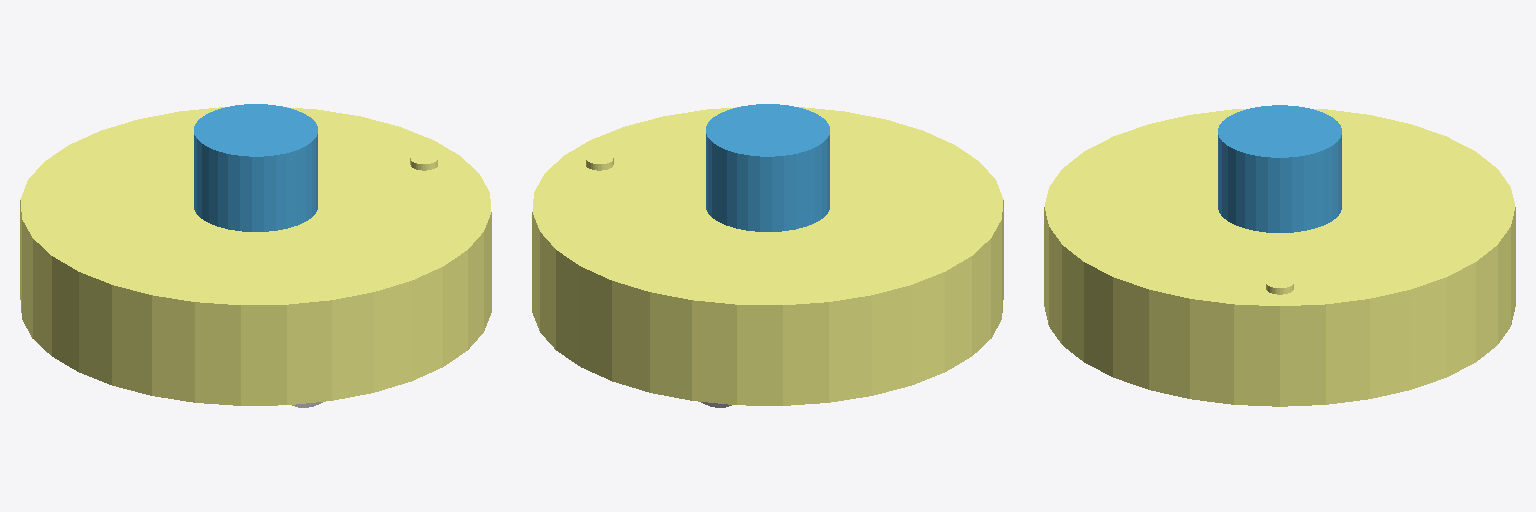
URDF robot description (iRobot):
<?xml version="1.0" ?>
<!-- =================================================================================== -->
<!-- |    This document was autogenerated by xacro from iRobot.urdf.xacro              | -->
<!-- |    EDITING THIS FILE BY HAND IS NOT RECOMMENDED                                 | -->
<!-- =================================================================================== -->
<robot name="iRobot" xmlns:xacro="http://www.ros.org/wiki/xacro">
  <!-- MODELS -->
  <material name="iRobot/Green">
    <color rgba="0.0 0.6 0.0 1.0"/>
  </material>
  <material name="iRobot/Yellow">
    <color rgba="1.0 1.0 0.0 1.0"/>
  </material>
  <material name="iRobot/Blue">
    <color rgba="0.0 0.5 1.0 1.0"/>
  </material>
  <material name="iRobot/LightYellow">
    <color rgba="1.0 1.0 0.6 1.0"/>
  </material>
  <material name="iRobot/Grey">
    <color rgba="0.75 0.75 0.75 1.0"/>
  </material>
  <material name="iRobot/Black">
    <color rgba="0.0 0.0 0.0 1.0"/>
  </material>
  <material name="iRobot/Red">
    <color rgba="0.8 0.0 0.0 1.0"/>
  </material>
  <link name="base_link">
    <inertial>
      <origin rpy="0 0 0" xyz="0 0 0"/>
      <mass value="0"/>
      <inertia ixx="0.0" ixy="0.0" ixz="0.0" iyy="0.0" iyz="0.0" izz="0.0"/>
    </inertial>
  </link>
  <joint name="base_joint" type="fixed">
    <origin rpy="0 0 0" xyz="0 0 0"/>
    <parent link="base_link"/>
    <child link="chassis"/>
  </joint>
  <link name="chassis">
    <inertial>
      <origin rpy="0 0 0" xyz="0 0 0"/>
      <mass value="10"/>
      <inertia ixx="0.425" ixy="0.0" ixz="0.0" iyy="0.425" iyz="0.0" izz="0.85"/>
    </inertial>
    <visual>
      <origin rpy="0 0 0" xyz="0 0 0"/>
      <geometry>
        <cylinder length="0.08" radius="0.17"/>
      </geometry>
      <material name="iRobot/LightYellow"/>
    </visual>
    <collision>
      <origin rpy="0 0 0" xyz="0 0 0"/>
      <geometry>
        <cylinder length="0.08" radius="0.17"/>
      </geometry>
    </collision>
  </link>
  <joint name="left_axis_base_joint" type="fixed">
    <origin rpy="0 0 0" xyz="-0.04 0.14 -0.02"/>
    <parent link="chassis"/>
    <child link="left_axis"/>
  </joint>
  <link name="left_axis">
    <inertial>
      <origin rpy="-1.57079632679 0 0" xyz="0 0 0"/>
      <mass value="0.001"/>
      <inertia ixx="6.25e-07" ixy="0.0" ixz="0.0" iyy="6.25e-07" iyz="0.0" izz="2.08333333333e-07"/>
    </inertial>
    <visual>
      <origin rpy="-1.57079632679 0 0" xyz="0 0 0"/>
      <geometry>
        <cylinder length="0.02" radius="0.0025"/>
      </geometry>
      <material name="iRobot/Red"/>
    </visual>
    <collision>
      <origin rpy="-1.57079632679 0 0" xyz="0 0 0"/>
      <geometry>
        <cylinder length="0.02" radius="0.0025"/>
      </geometry>
    </collision>
  </link>
  <gazebo reference="left_axis_axis">
    <gravity>true</gravity>
    <material>Gazebo/Red</material>
    <mu1>0.8</mu1>
    <mu2>0.8</mu2>
  </gazebo>
  <joint name="left_wheel_rot_joint" type="continuous">
    <origin rpy="0 0 0" xyz="0 0 0"/>
    <axis xyz="0 1 0"/>
    <limit effort="100" velocity="100"/>
    <joint_properties damping="0.0" friction="0.0"/>
    <parent link="left_axis"/>
    <child link="left_wheel_link"/>
  </joint>
  <link name="left_wheel_link">
    <inertial>
      <origin rpy="-1.57079632679 0 0" xyz="0 0.01 0"/>
      <mass value="0.5"/>
      <inertia ixx="0.00375" ixy="0.0" ixz="0.0" iyy="0.00375" iyz="0.0" izz="0.00125"/>
    </inertial>
    <visual>
      <origin rpy="-1.57079632679 0 0" xyz="0 0 0"/>
      <geometry>
        <cylinder length="0.02" radius="0.03"/>
      </geometry>
      <material name="iRobot/Grey"/>
    </visual>
    <collision>
      <origin rpy="-1.57079632679 0 0" xyz="0 0 0"/>
      <geometry>
        <cylinder length="0.02" radius="0.03"/>
      </geometry>
    </collision>
  </link>
  <gazebo reference="left_wheel_link">
    <gravity>true</gravity>
    <material>Gazebo/Grey</material>
    <mu1>50</mu1>
    <mu2>10</mu2>
    <kp>10000000</kp>
    <kd>1</kd>
    <fdir1>1 0 0</fdir1>
    <minDepth>0.0001</minDepth>
    <maxContacts>1</maxContacts>
  </gazebo>
  <joint name="right_axis_base_joint" type="fixed">
    <origin rpy="0 0 0" xyz="-0.04 -0.14 -0.02"/>
    <parent link="chassis"/>
    <child link="right_axis"/>
  </joint>
  <link name="right_axis">
    <inertial>
      <origin rpy="-1.57079632679 0 0" xyz="0 0 0"/>
      <mass value="0.001"/>
      <inertia ixx="6.25e-07" ixy="0.0" ixz="0.0" iyy="6.25e-07" iyz="0.0" izz="2.08333333333e-07"/>
    </inertial>
    <visual>
      <origin rpy="-1.57079632679 0 0" xyz="0 0 0"/>
      <geometry>
        <cylinder length="0.02" radius="0.0025"/>
      </geometry>
      <material name="iRobot/Red"/>
    </visual>
    <collision>
      <origin rpy="-1.57079632679 0 0" xyz="0 0 0"/>
      <geometry>
        <cylinder length="0.02" radius="0.0025"/>
      </geometry>
    </collision>
  </link>
  <gazebo reference="right_axis_axis">
    <gravity>true</gravity>
    <material>Gazebo/Red</material>
    <mu1>0.8</mu1>
    <mu2>0.8</mu2>
  </gazebo>
  <joint name="right_wheel_rot_joint" type="continuous">
    <origin rpy="0 0 0" xyz="0 0 0"/>
    <axis xyz="0 1 0"/>
    <limit effort="100" velocity="100"/>
    <joint_properties damping="0.0" friction="0.0"/>
    <parent link="right_axis"/>
    <child link="right_wheel_link"/>
  </joint>
  <link name="right_wheel_link">
    <inertial>
      <origin rpy="-1.57079632679 0 0" xyz="0 0.01 0"/>
      <mass value="0.5"/>
      <inertia ixx="0.00375" ixy="0.0" ixz="0.0" iyy="0.00375" iyz="0.0" izz="0.00125"/>
    </inertial>
    <visual>
      <origin rpy="-1.57079632679 0 0" xyz="0 0 0"/>
      <geometry>
        <cylinder length="0.02" radius="0.03"/>
      </geometry>
      <material name="iRobot/Grey"/>
    </visual>
    <collision>
      <origin rpy="-1.57079632679 0 0" xyz="0 0 0"/>
      <geometry>
        <cylinder length="0.02" radius="0.03"/>
      </geometry>
    </collision>
  </link>
  <gazebo reference="right_wheel_link">
    <gravity>true</gravity>
    <material>Gazebo/Grey</material>
    <mu1>50</mu1>
    <mu2>10</mu2>
    <kp>10000000</kp>
    <kd>1</kd>
    <fdir1>1 0 0</fdir1>
    <minDepth>0.0001</minDepth>
    <maxContacts>1</maxContacts>
  </gazebo>
  <joint name="sphere_joint" type="revolute">
    <origin rpy="0 0 0" xyz="0.14 0 -0.04"/>
    <axis xyz="0 0 1"/>
    <limit effort="100" lower="0" upper="0" velocity="100"/>
    <parent link="chassis"/>
    <child link="sphere"/>
  </joint>
  <link name="sphere">
    <inertial>
      <origin rpy="0 0 0" xyz="0 0 0"/>
      <mass value="0.3"/>
      <inertia ixx="0.0012" ixy="0.0" ixz="0.0" iyy="0.0012" iyz="0.0" izz="0.0012"/>
    </inertial>
    <visual>
      <origin rpy="0 0 0" xyz="0 0 0"/>
      <geometry>
        <sphere radius="0.01"/>
      </geometry>
      <material name="iRobot/Grey"/>
    </visual>
    <collision>
      <origin rpy="0 0 0" xyz="0 0 0"/>
      <geometry>
        <sphere radius="0.01"/>
      </geometry>
    </collision>
  </link>
  <joint name="sphere_to_ground" type="fixed">
    <origin rpy="0 0 0" xyz="0 0 -0.03"/>
    <parent link="sphere"/>
    <child link="ground"/>
  </joint>
  <link name="ground">
    <inertial>
      <origin rpy="0 0 0" xyz="0 0 0"/>
      <mass value="0"/>
      <inertia ixx="0.0" ixy="0.0" ixz="0.0" iyy="0.0" iyz="0.0" izz="0.0"/>
    </inertial>
  </link>
  <joint name="base_front_joint" type="fixed">
    <origin rpy="0 0 0" xyz="0.14 0 0.04"/>
    <parent link="chassis"/>
    <child link="front_marker"/>
  </joint>
  <link name="front_marker">
    <inertial>
      <origin rpy="0 0 0" xyz="0 0 0"/>
      <mass value="0.001"/>
      <inertia ixx="0.00001" ixy="0.0" ixz="0.0" iyy="0.00001" iyz="0.0" izz="0.00001"/>
    </inertial>
    <visual>
      <origin rpy="0 0 0" xyz="0 0 0"/>
      <geometry>
        <cylinder length="0.01" radius="0.01"/>
      </geometry>
      <material name="iRobot/LightYellow"/>
    </visual>
    <collision>
      <origin rpy="0 0 0" xyz="0 0 0"/>
      <geometry>
        <cylinder length="0.01" radius="0.01"/>
      </geometry>
    </collision>
  </link>
  <joint name="hokuyo_laser_joint" type="fixed">
    <axis xyz="0 0 1"/>
    <origin rpy="0 0 0" xyz="0 0 0.05"/>
    <parent link="base_link"/>
    <child link="hokuyo_laser_link"/>
  </joint>
  <link name="hokuyo_laser_link">
    <collision>
      <origin rpy="0 0 0" xyz="0 0 0"/>
      <geometry>
        <box size="0.1 0.1 0.1"/>
      </geometry>
    </collision>
    <visual>
      <origin rpy="0 0 0" xyz="0 0 0"/>
      <geometry>
        <cylinder length="0.1" radius="0.045"/>
      </geometry>
    </visual>
    <inertial>
      <mass value="1e-5"/>
      <origin rpy="0 0 0" xyz="0 0 0"/>
      <inertia ixx="1e-6" ixy="0" ixz="0" iyy="1e-6" iyz="0" izz="1e-6"/>
    </inertial>
  </link>
  <gazebo reference="hokuyo_laser_link">
    <sensor name="head_hokuyo_sensor" type="ray">
      <pose>0 0 0 0 0 0</pose>
      <visualize>true</visualize>
      <update_rate>40</update_rate>
      <ray>
        <scan>
          <horizontal>
            <samples>720</samples>
            <resolution>1</resolution>
            <min_angle>-1.570796</min_angle>
            <max_angle>1.570796</max_angle>
          </horizontal>
        </scan>
        <range>
          <min>0.08</min>
          <max>5</max>
          <resolution>0.01</resolution>
        </range>
      </ray>
      <plugin filename="libgazebo_ros_laser.so" name="gazebo_ros_head_hokuyo_controller">
        <robotNamespace/>
        <topicName>laser_scan</topicName>
        <frameName>hokuyo_laser_link</frameName>
      </plugin>
    </sensor>
  </gazebo>
  <gazebo reference="base_link">
    </gazebo>
  <gazebo reference="ground">
    </gazebo>
  <gazebo reference="sphere">
    <gravity>true</gravity>
    <material>Gazebo/Grey</material>
    <mu1>0</mu1>
    <mu2>0</mu2>
    <kp>10000000</kp>
    <kd>1</kd>
    <fdir1>1 0 0</fdir1>
    <minDepth>0.0001</minDepth>
    <maxContacts>1</maxContacts>
  </gazebo>
  <gazebo reference="chassis">
    <gravity>true</gravity>
    <material>Gazebo/Yellow</material>
  </gazebo>
  <gazebo>
    <static>false</static>
    <plugin filename="libgazebo_ros_diff_drive.so" name="differential_drive_controller">
      <rosDebugLevel>Debug</rosDebugLevel>
      <publishWheelTF>false</publishWheelTF>
      <publishWheelJointState>true</publishWheelJointState>
      <alwaysOn>true</alwaysOn>
      <leftJoint>left_wheel_rot_joint</leftJoint>
      <rightJoint>right_wheel_rot_joint</rightJoint>
      <wheelSeparation>0.32</wheelSeparation>
      <wheelDiameter>0.14</wheelDiameter>
      <torque>20</torque>
      <wheelAcceleration>1.8</wheelAcceleration>
      <commandTopic>cmd_vel</commandTopic>
      <odometryTopic>odom</odometryTopic>
      <odometryFrame>odom</odometryFrame>
      <odometrySource>world</odometrySource>
      <robotBaseFrame>base_link</robotBaseFrame>
      <updateRate>10.0</updateRate>
    </plugin>
    <plugin filename="libgazebo_ros_joint_state_publisher.so" name="joint_state_publisher">
      <jointName>left_wheel_rot_joint, right_wheel_rot_joint</jointName>
      <updateRate>10.0</updateRate>
      <alwaysOn>true</alwaysOn>
    </plugin>
    <plugin filename="libgazebo_ros_imu.so" name="imu_plugin">
      <bodyName>base_link</bodyName>
      <updateRate>100.0</updateRate>
      <topicName>imu_data</topicName>
      <serviceName>imu_service</serviceName>
      <gaussianNoise>0.1</gaussianNoise>
      <xyzOffset>0 0 0</xyzOffset>
      <rpyOffset>0 0 0</rpyOffset>
    </plugin>
  </gazebo>
</robot>

--- Render facts (derived) ---
3 views of the same robot in one strip: view 1: azimuth 30°, elevation 25°; view 2: azimuth 150°, elevation 25°; view 3: azimuth 270°, elevation 25° (orthographic).
Model iRobot with 10 links and 9 joints (1 revolute, 2 continuous, 6 fixed), rooted at base_link, posed all joints at 0.
Visible links, largest first — view 1: chassis, hokuyo_laser_link; view 2: chassis, hokuyo_laser_link; view 3: chassis, hokuyo_laser_link.
Link boxes in pixels (left/top/right/bottom): chassis: left=20, top=107, right=491, bottom=405; hokuyo_laser_link: left=194, top=104, right=317, bottom=231; chassis: left=532, top=107, right=1003, bottom=405; hokuyo_laser_link: left=706, top=104, right=829, bottom=231; chassis: left=1044, top=109, right=1515, bottom=406; hokuyo_laser_link: left=1218, top=105, right=1341, bottom=232.
Size in the robot's own frame: 0.34 by 0.34 by 0.15 metres.
Geometry: primitives only (box / cylinder / sphere), no mesh files.
